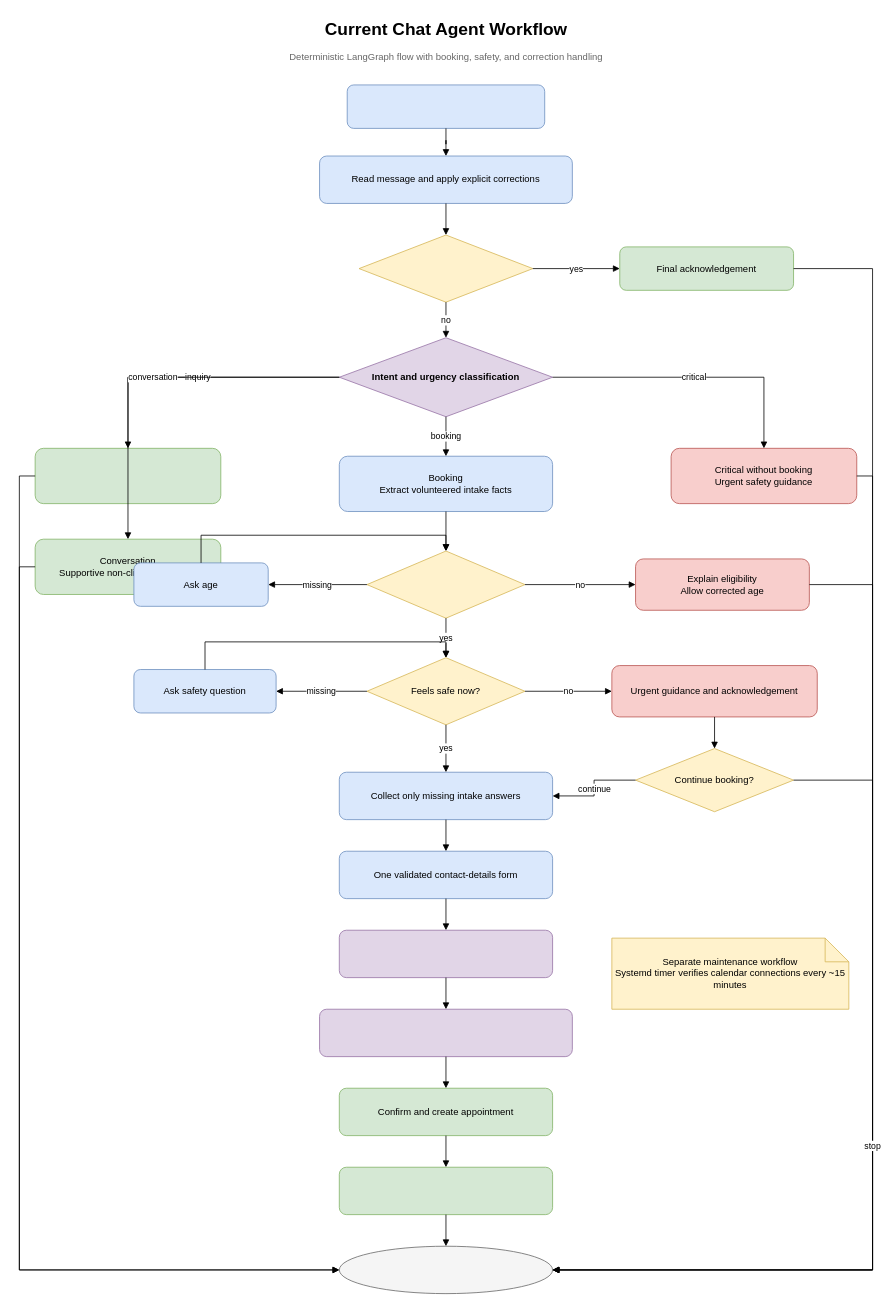
Image size: 894x1307. Some labels were removed from this diagram. Each missing label, with the box of its shape:
Age eligible?: (366, 550, 525, 618)
Clinic inquiry RAG website search and answer: (34, 448, 221, 504)
Emit booking UI once: (339, 929, 553, 978)
End / wait for next message: (339, 1245, 553, 1294)
Mark booking completed: (339, 1166, 553, 1215)
Short closing thanks?: (358, 234, 533, 302)
Show connected doctors, dates, and live slots: (319, 1008, 572, 1057)
User message: (346, 84, 545, 128)
